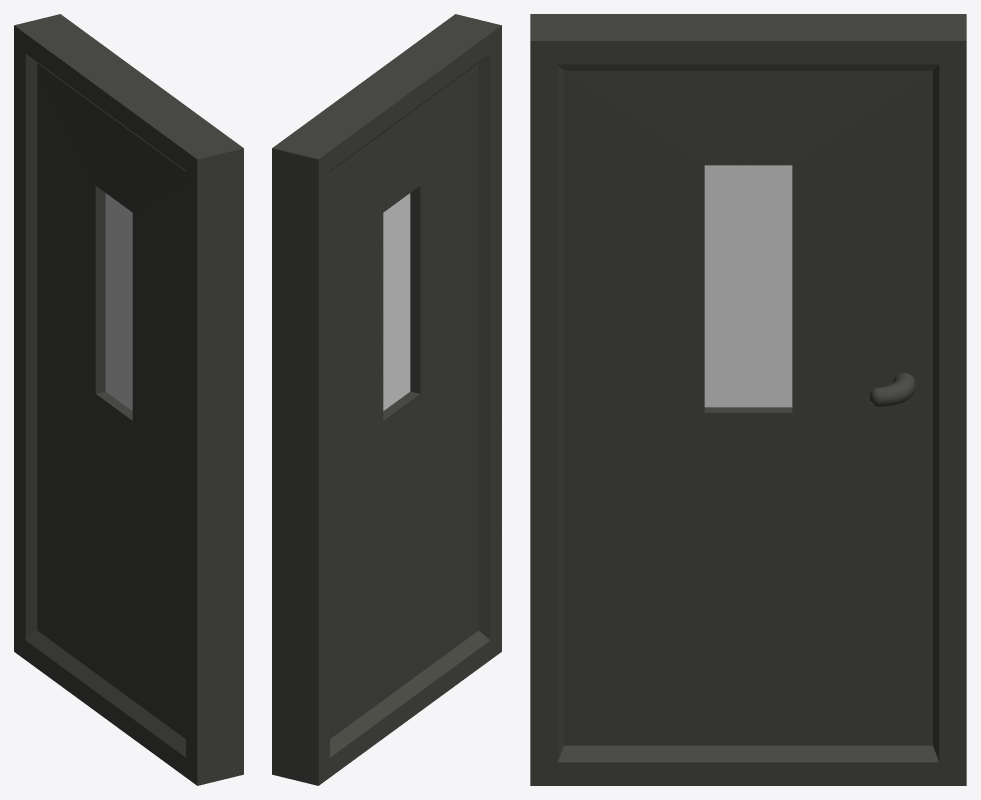
The model's file is Door_1.fbx.
3 renders of one model, left to right at view 1: azimuth 30°, elevation 25°; view 2: azimuth 150°, elevation 25°; view 3: azimuth 270°, elevation 25°, orthographic. The views are drawn at different scales.
Visible parts, largest first — view 1: Door_1; view 2: Door_1; view 3: Door_1.
Part boxes in pixels (x1,y1,x2,y2): Door_1: (14, 14, 243, 785); Door_1: (272, 14, 501, 785); Door_1: (530, 14, 966, 785).
Size of the model in its own units: 0.49 by 4.28 by 2.27.
